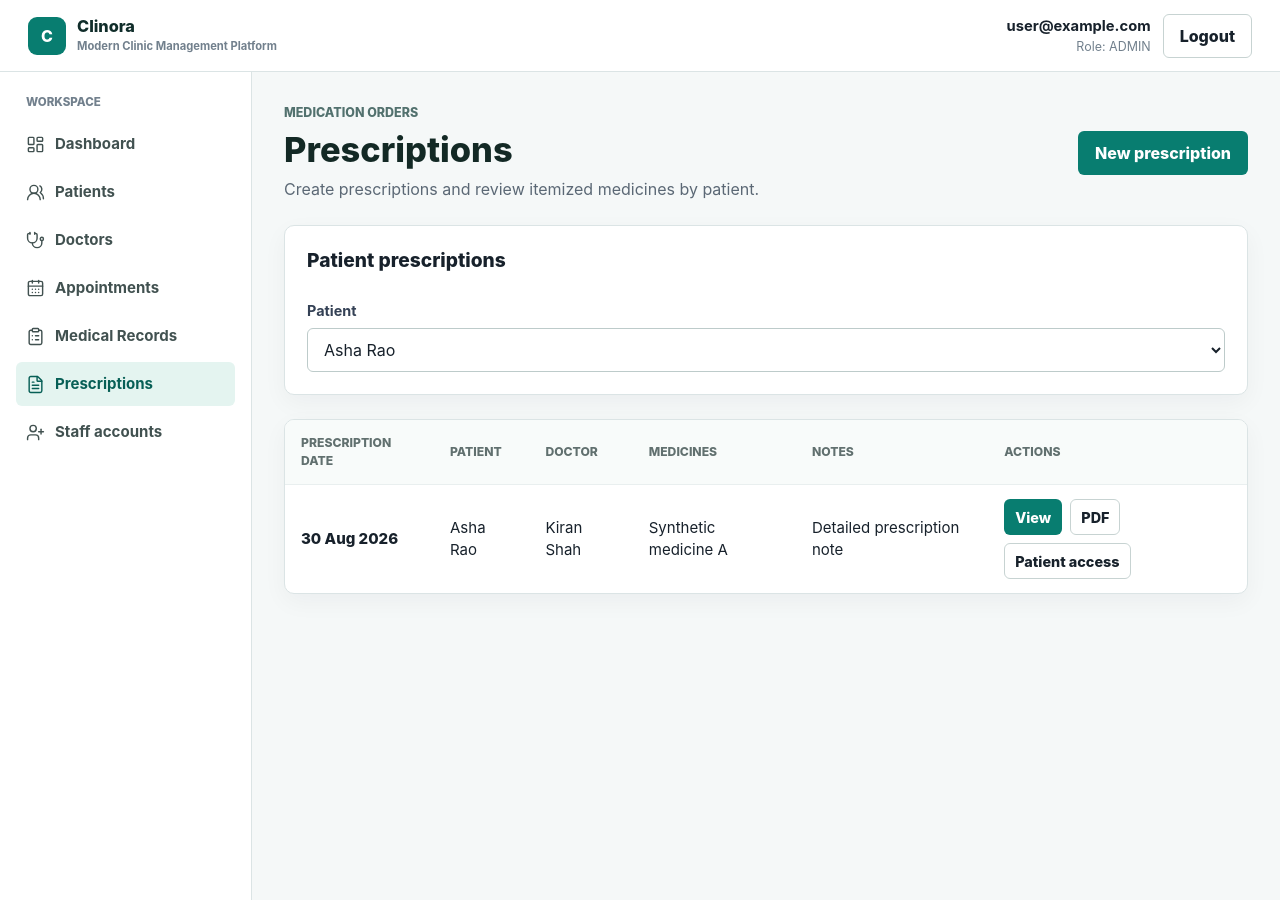
Scenario: PrescriptionsPage › retrieves a prescription detail view
Click the button "View": (1033, 517) [1004,499,1062,535]
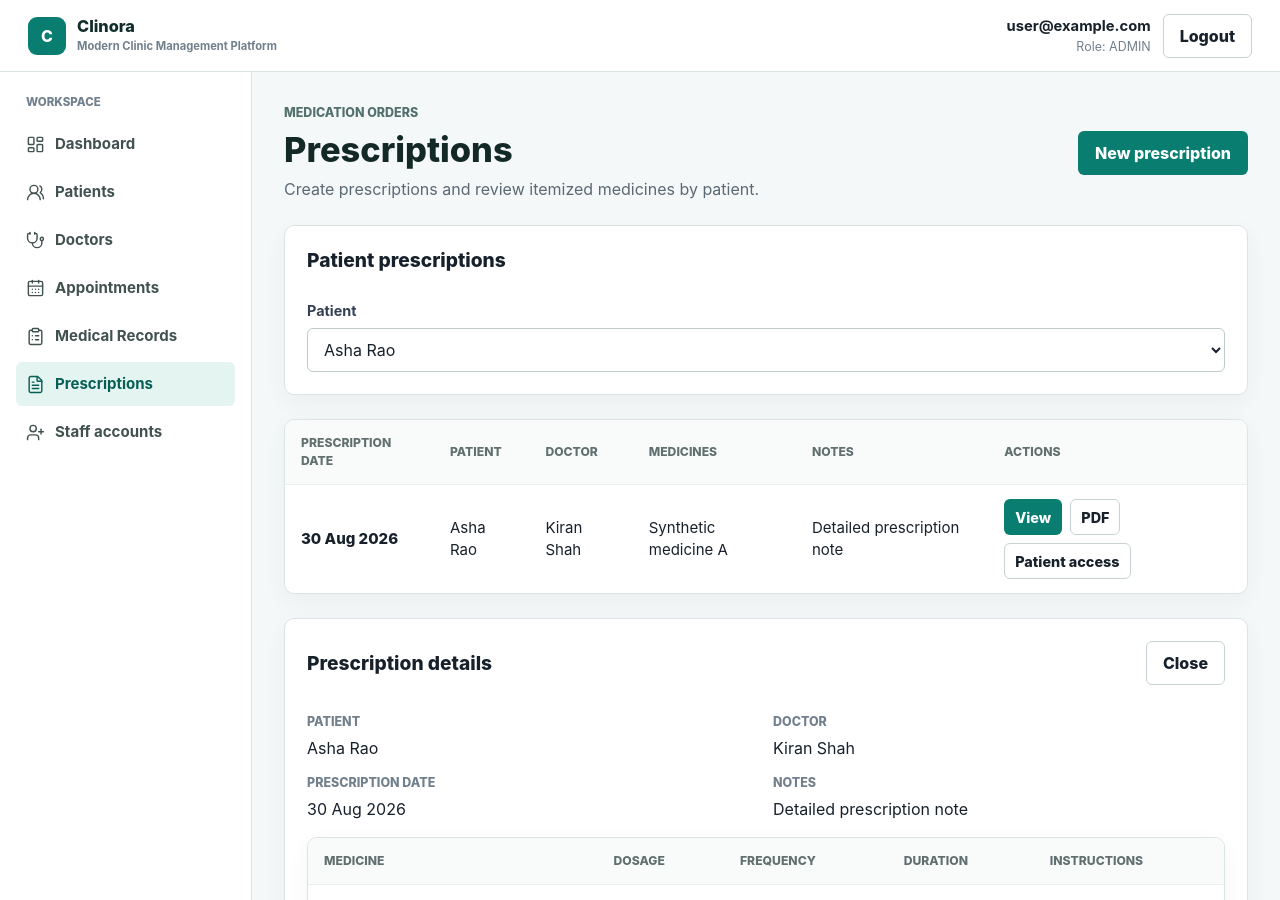
Expected: the heading "Prescription details" is shown, [307,651,492,675]
Expected: the text "Detailed prescription note" is shown 2 times, [796,485,988,593]; [773,799,968,819]
